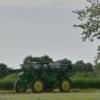Tractor: (16, 45, 86, 100)
